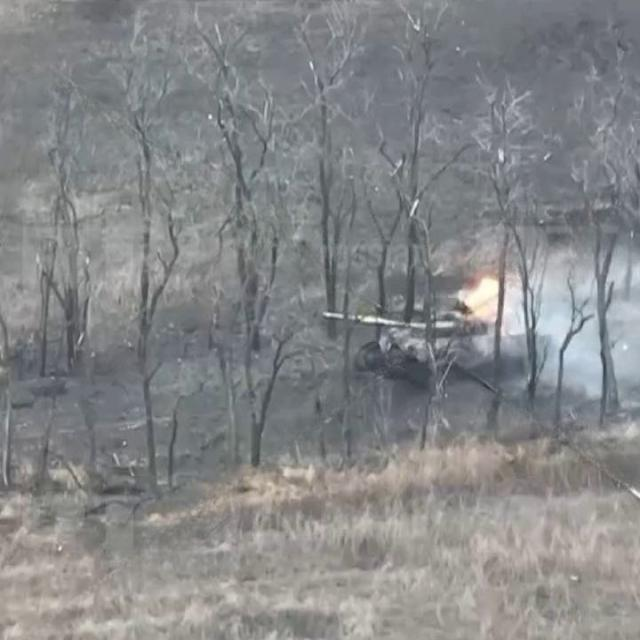MBT: (326, 289, 550, 383)
